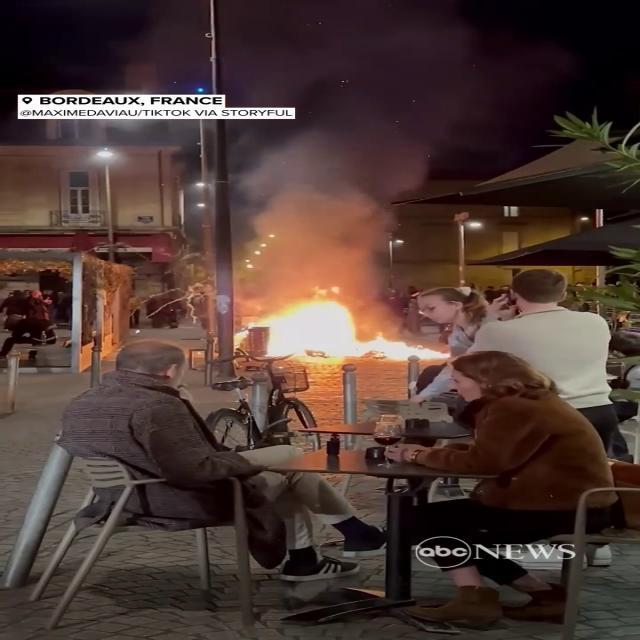Fire: (242, 287, 432, 365)
Smoke: (215, 0, 504, 294)
